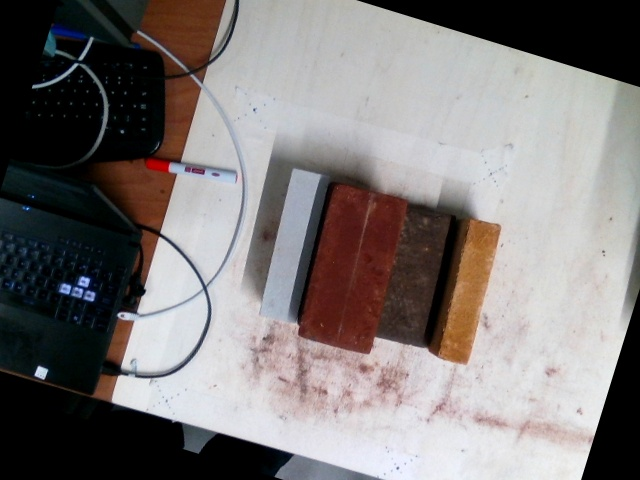brick: (298, 185, 406, 355), (375, 202, 462, 349)
brick-side: (256, 168, 327, 326), (436, 216, 504, 366)
